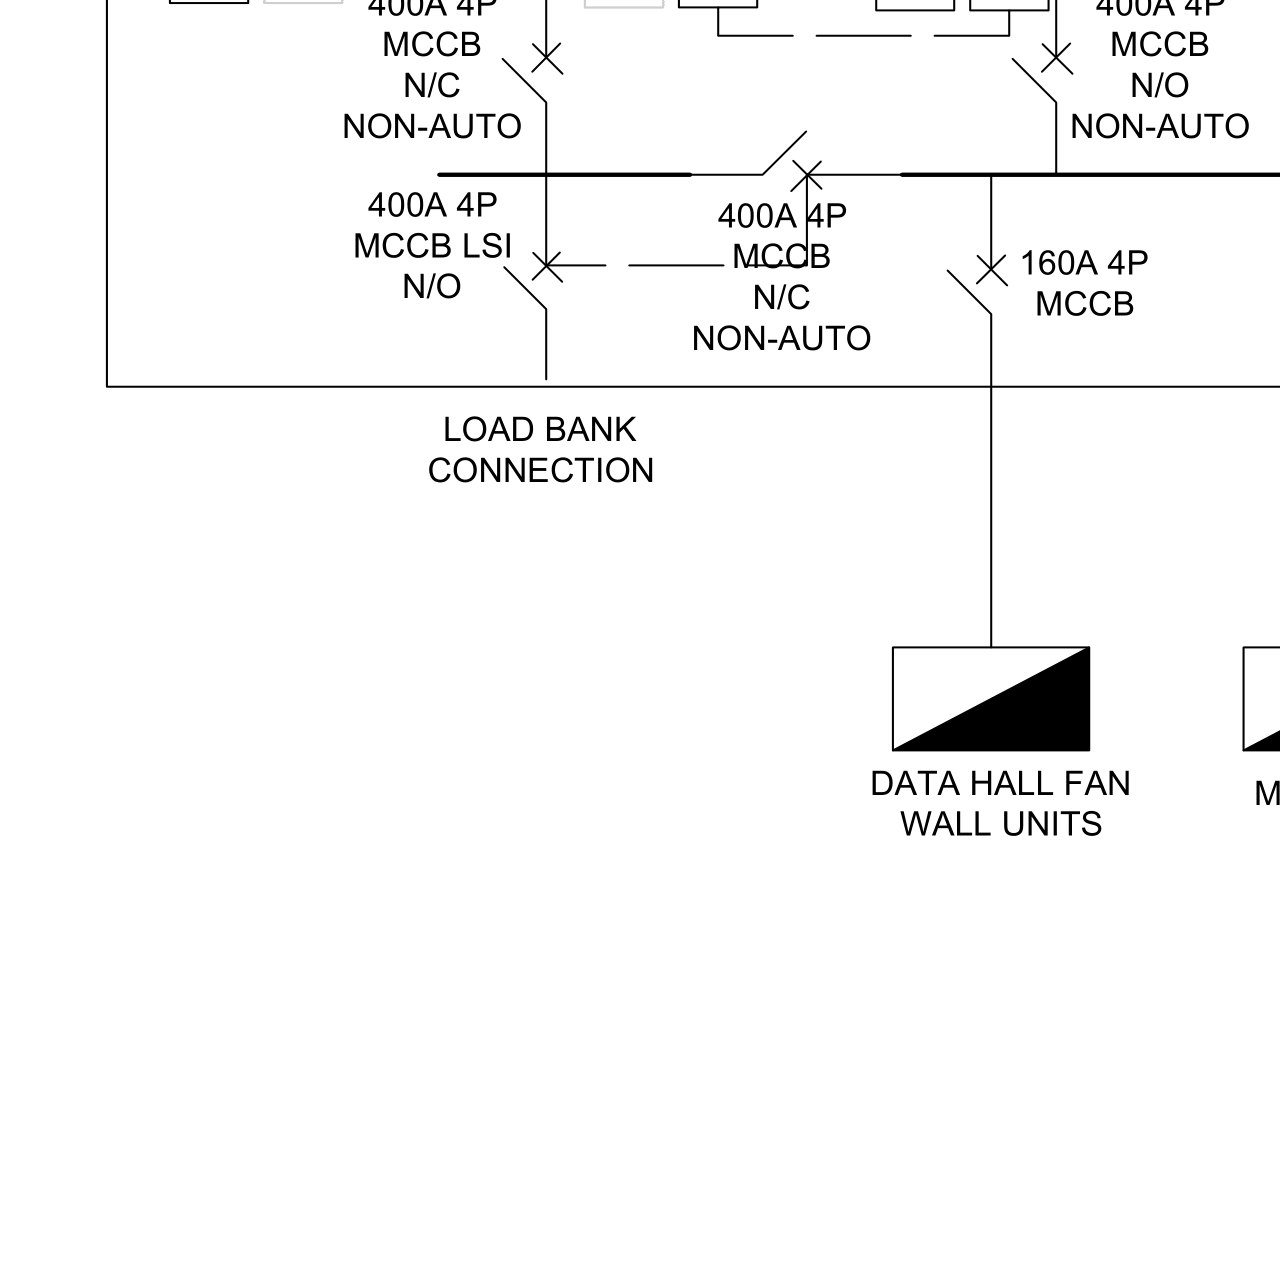Distribution Board: (877, 634, 1105, 762)
